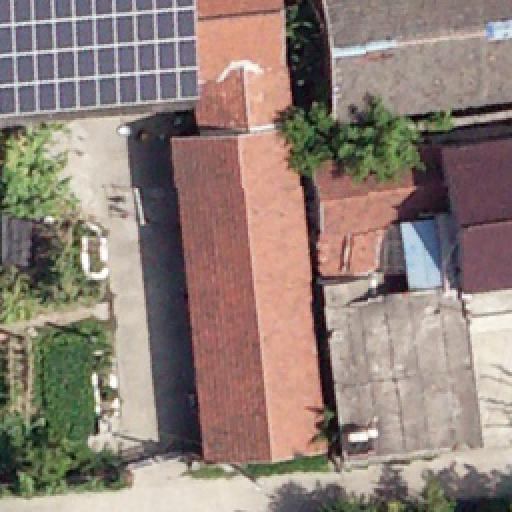solar-panel: (0, 0, 220, 119)
